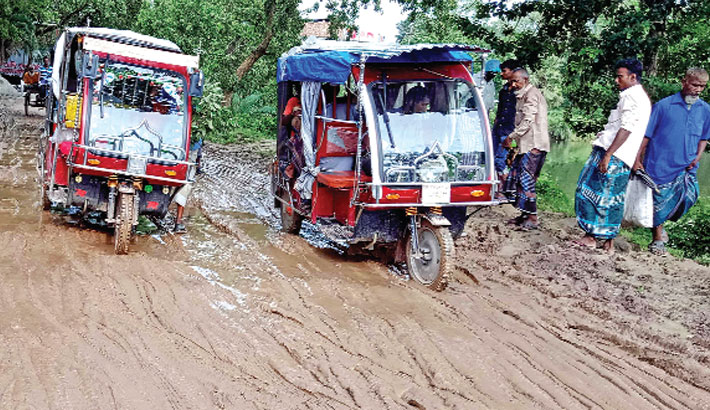auto rickshaw: (274, 38, 499, 288), (40, 28, 198, 255)
wheelbarrow: (22, 84, 52, 117)
